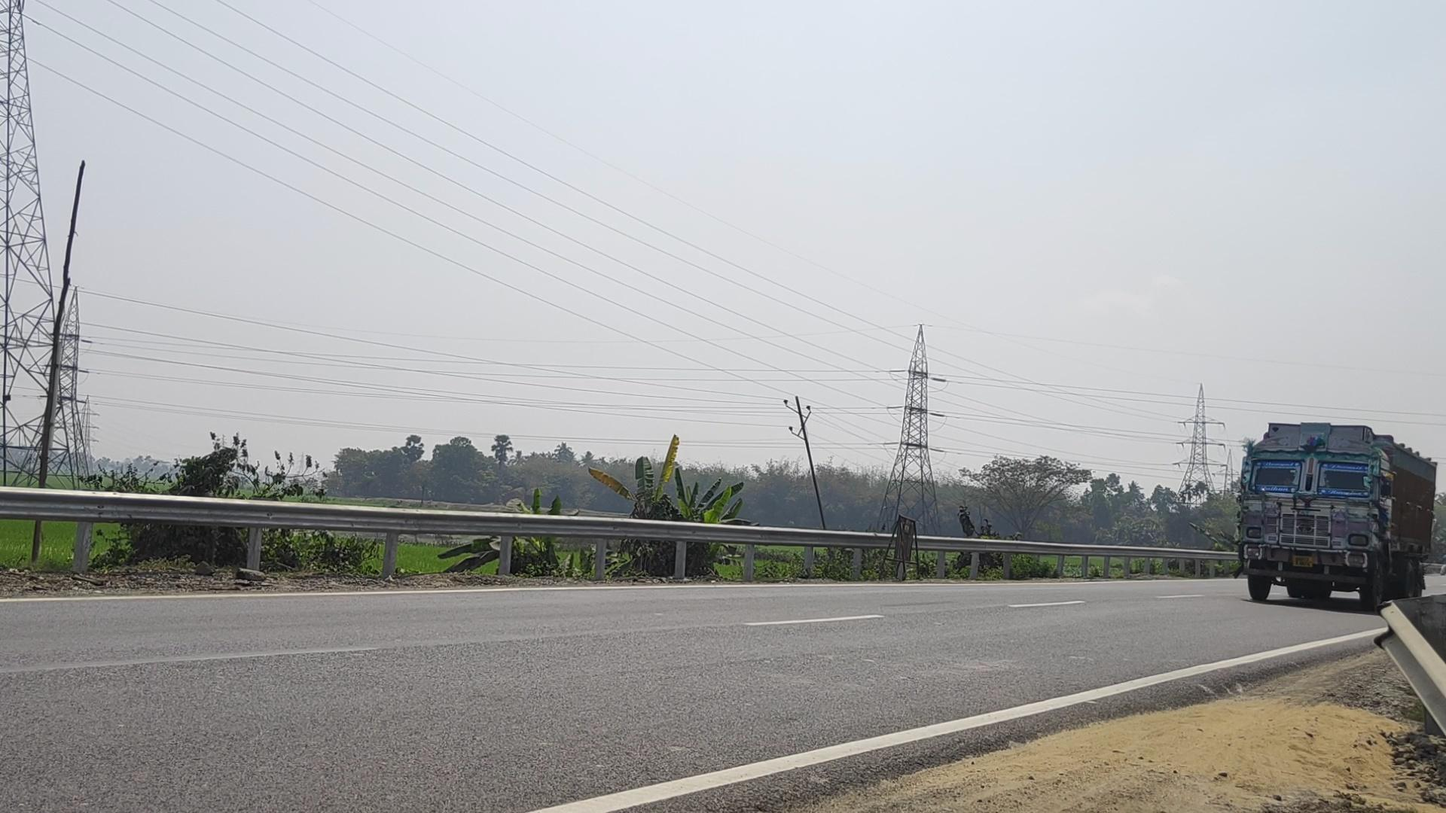truck: (1237, 422, 1437, 613)
